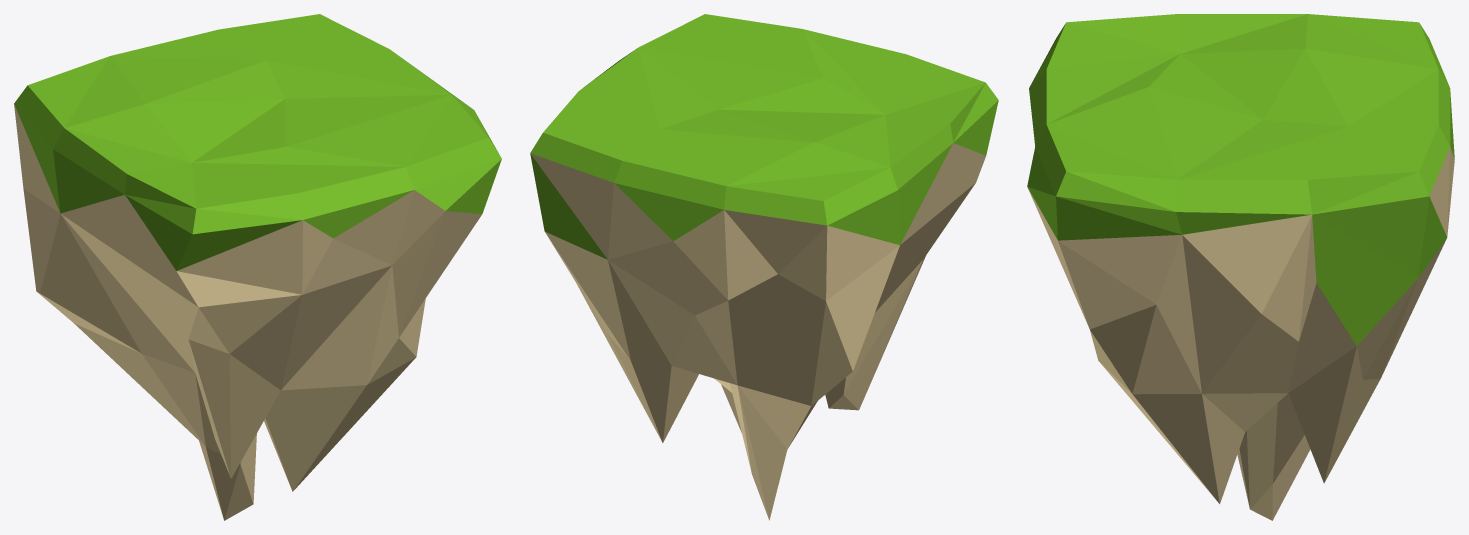
The model's file is plane_grass.FBX.
3 renders of one model, left to right at view 1: azimuth 30°, elevation 25°; view 2: azimuth 150°, elevation 25°; view 3: azimuth 270°, elevation 25°, orthographic. The views are drawn at different scales.
Parts seen in each view (by area): view 1: plane; view 2: plane; view 3: plane.
Part boxes in pixels (x1=…): plane: x1=14, y1=14, x2=501, y2=520; plane: x1=530, y1=14, x2=998, y2=520; plane: x1=1027, y1=14, x2=1454, y2=520.
Bounding box in the file's own units: 38.44 × 43.41 × 38.22.
